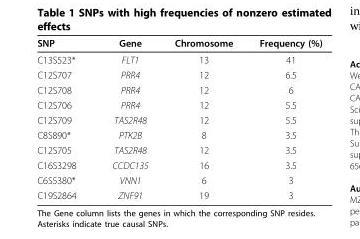table: (36, 36, 321, 200)
table column: (160, 36, 245, 200), (245, 36, 321, 200), (93, 36, 160, 200), (36, 36, 93, 200)
table column header: (36, 36, 321, 51)
table row: (36, 66, 321, 82), (36, 36, 321, 51), (36, 51, 321, 66), (36, 82, 321, 97), (36, 97, 321, 112), (36, 112, 321, 127), (36, 127, 321, 142), (36, 142, 321, 157), (36, 157, 321, 172), (36, 172, 321, 187), (36, 187, 321, 200)
